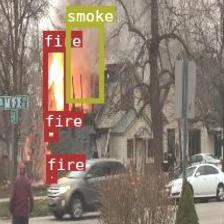fire: (42, 46, 68, 120), (44, 127, 57, 140), (46, 171, 56, 182)
smoke: (65, 22, 103, 102)
